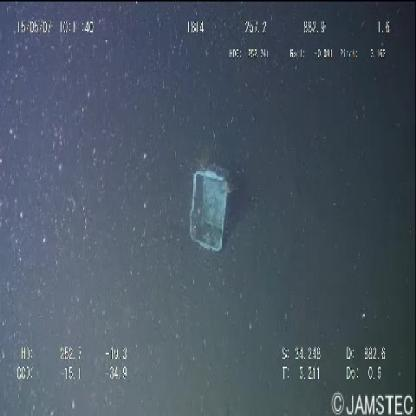Rác: (185, 152, 240, 264)
